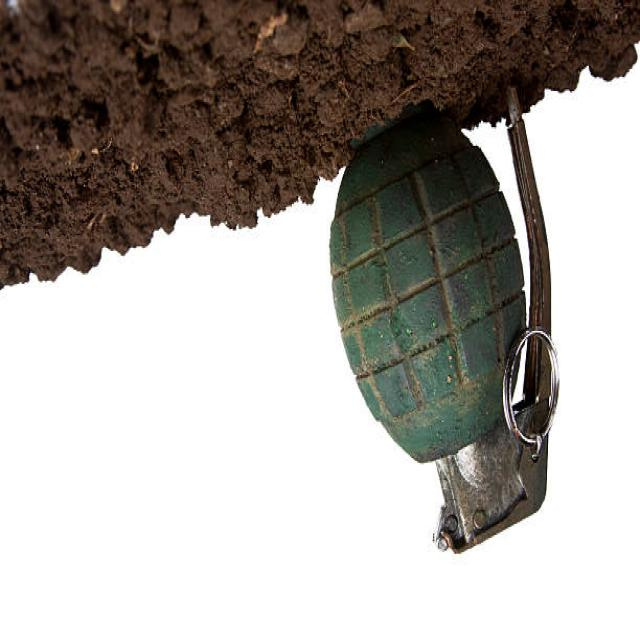grenade: (322, 83, 560, 565)
